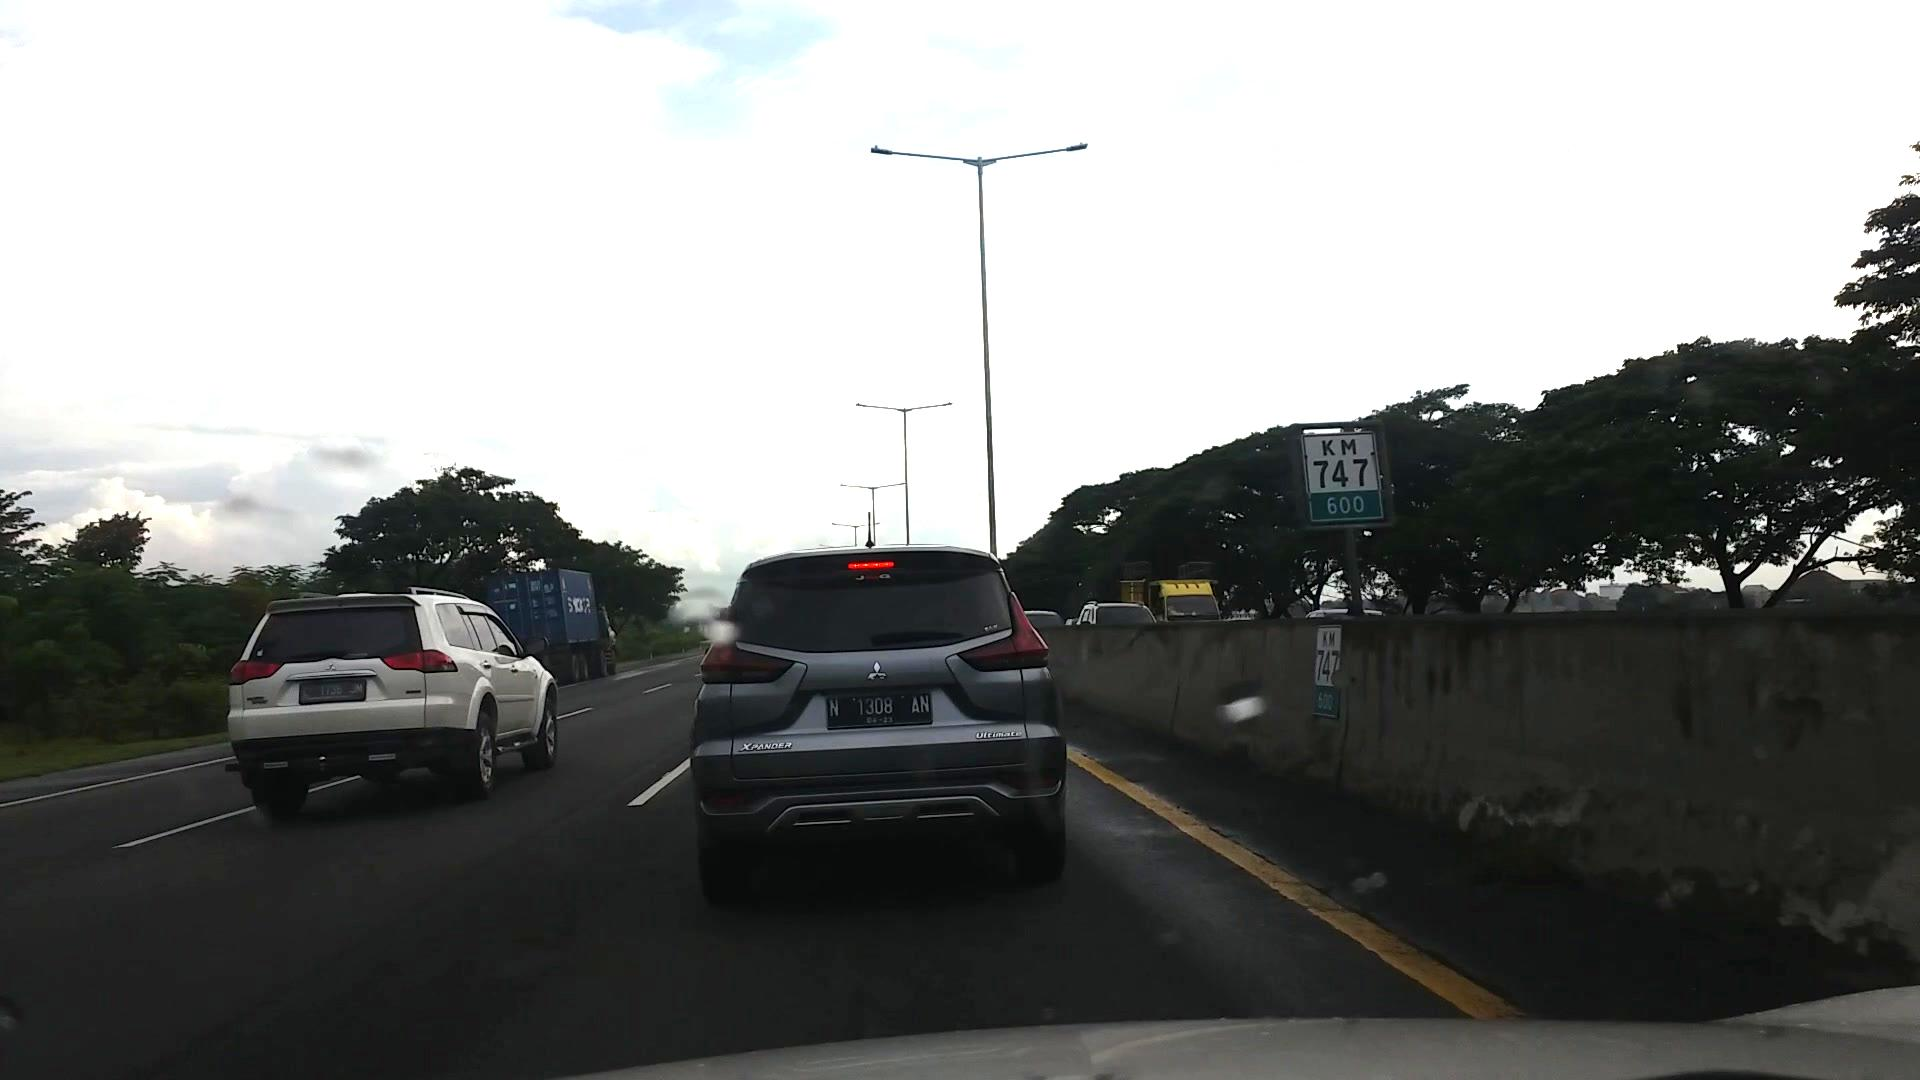plate_positive: (825, 694, 934, 728)
